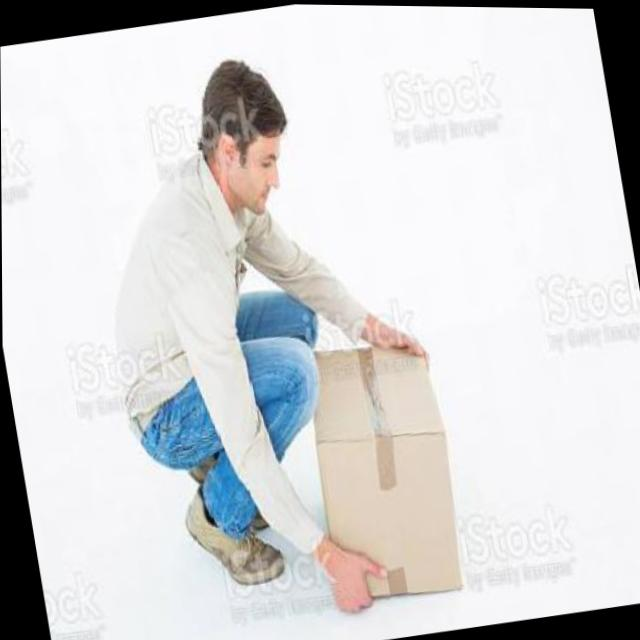box: (293, 311, 480, 640)
